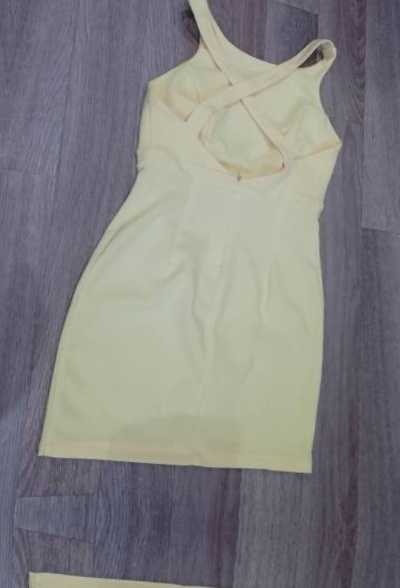Dress: (29, 0, 372, 505), (0, 546, 330, 588)
